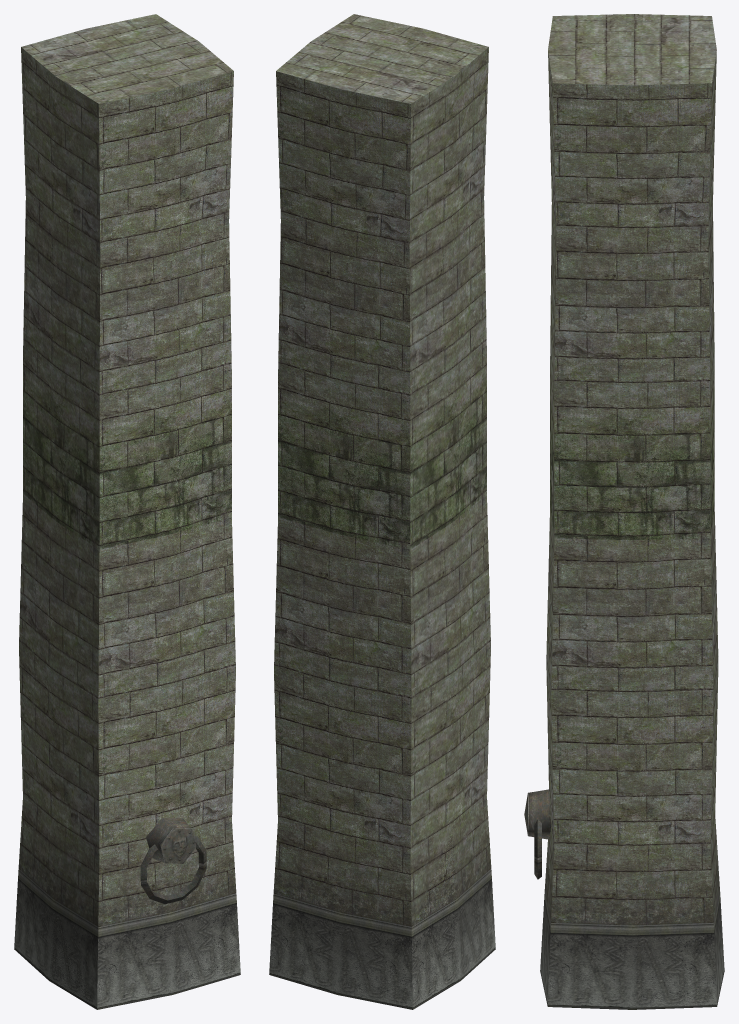
File: PilarCraked_lod.fbx
3 renders of one model, left to right at view 1: azimuth 30°, elevation 25°; view 2: azimuth 150°, elevation 25°; view 3: azimuth 270°, elevation 25°, orthographic. The views are drawn at different scales.
Visible parts, largest first — view 1: Mesh Object; view 2: Mesh Object; view 3: Mesh Object.
Boxes of the visible parts, x1,y1,x2,y2 form: Mesh Object: (14,14,240,1009); Mesh Object: (269,14,495,1009); Mesh Object: (524,14,724,1009).
Size of the model in its own units: 1.09 by 6.05 by 1.19.
